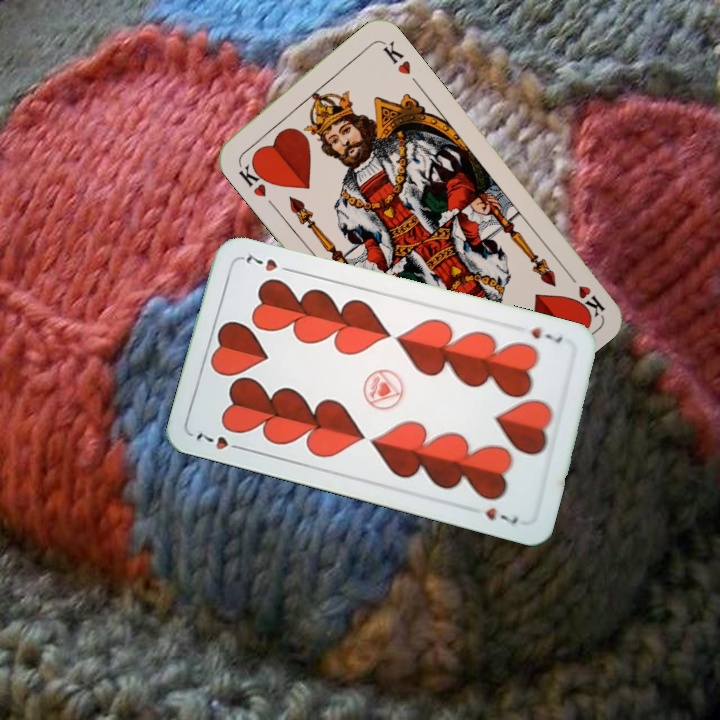H7: (192, 428, 248, 454), (527, 323, 566, 346)
HK: (562, 266, 608, 321), (233, 155, 275, 200)
